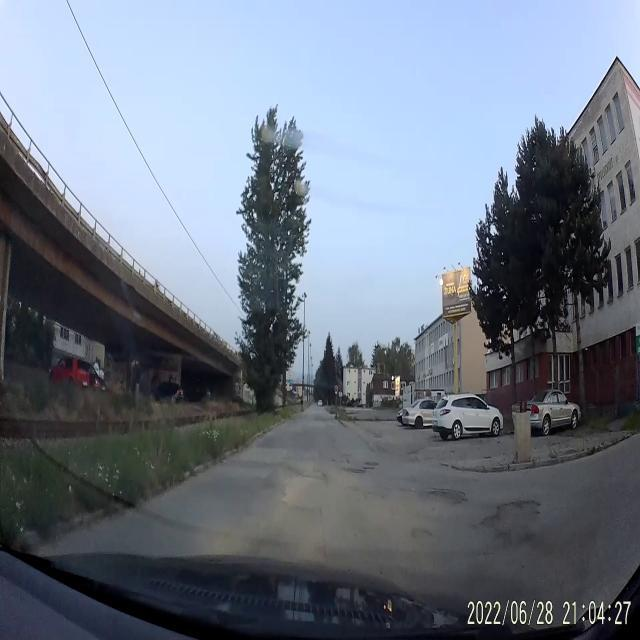Pothole: (482, 498, 540, 546), (422, 485, 468, 505), (411, 522, 434, 544), (338, 464, 371, 478)
